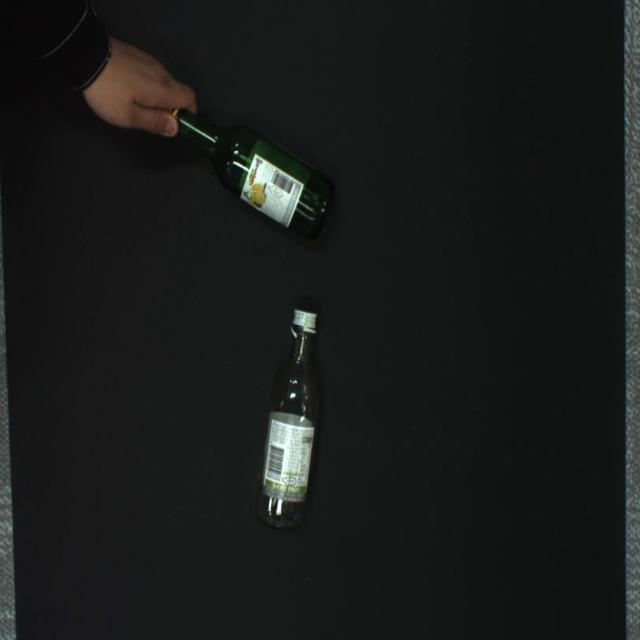soju-bottle: (165, 107, 335, 243), (253, 309, 321, 531)
